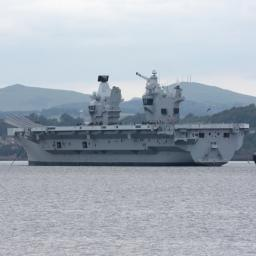Portanaves: (3, 61, 253, 169)
